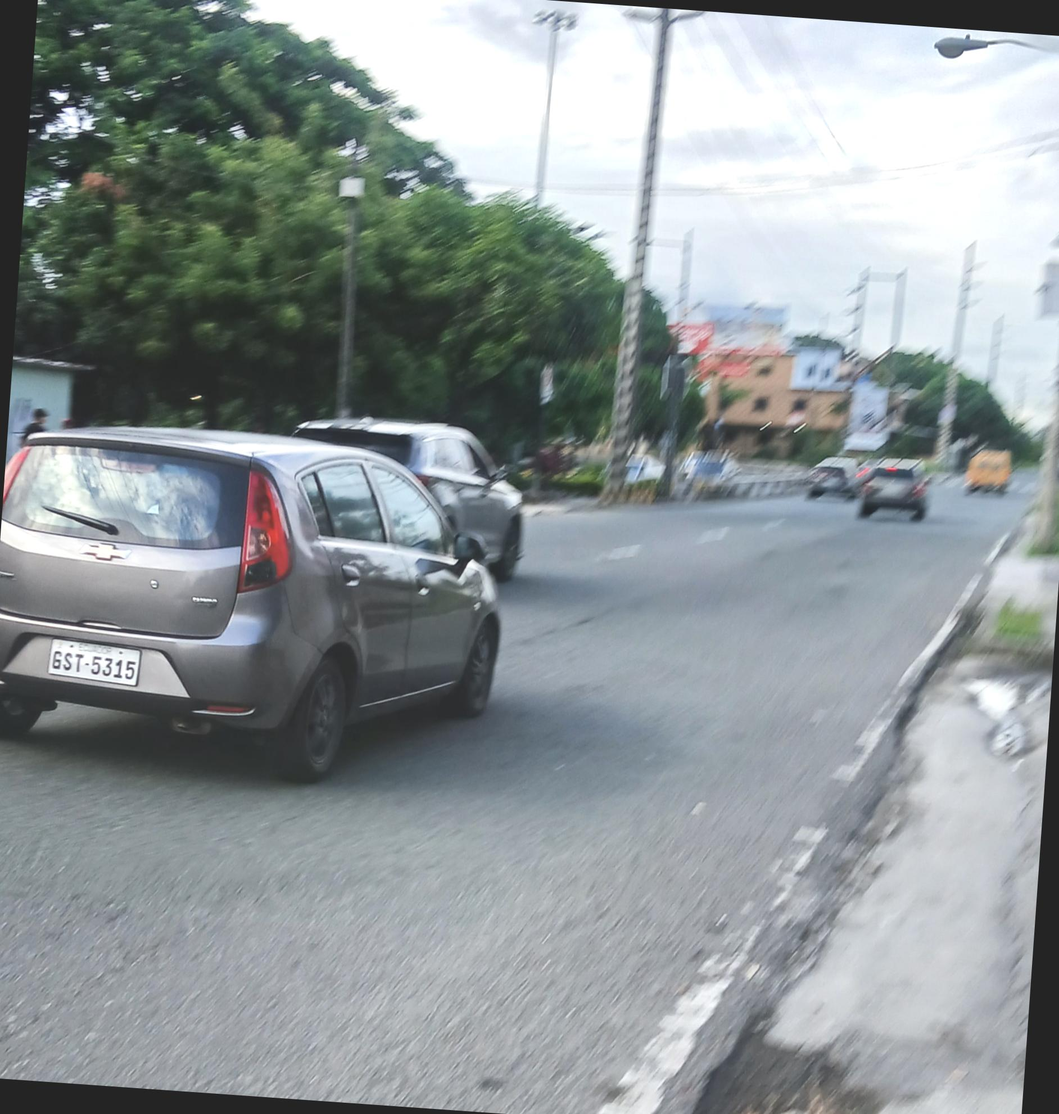license_plate: (46, 639, 144, 686)
